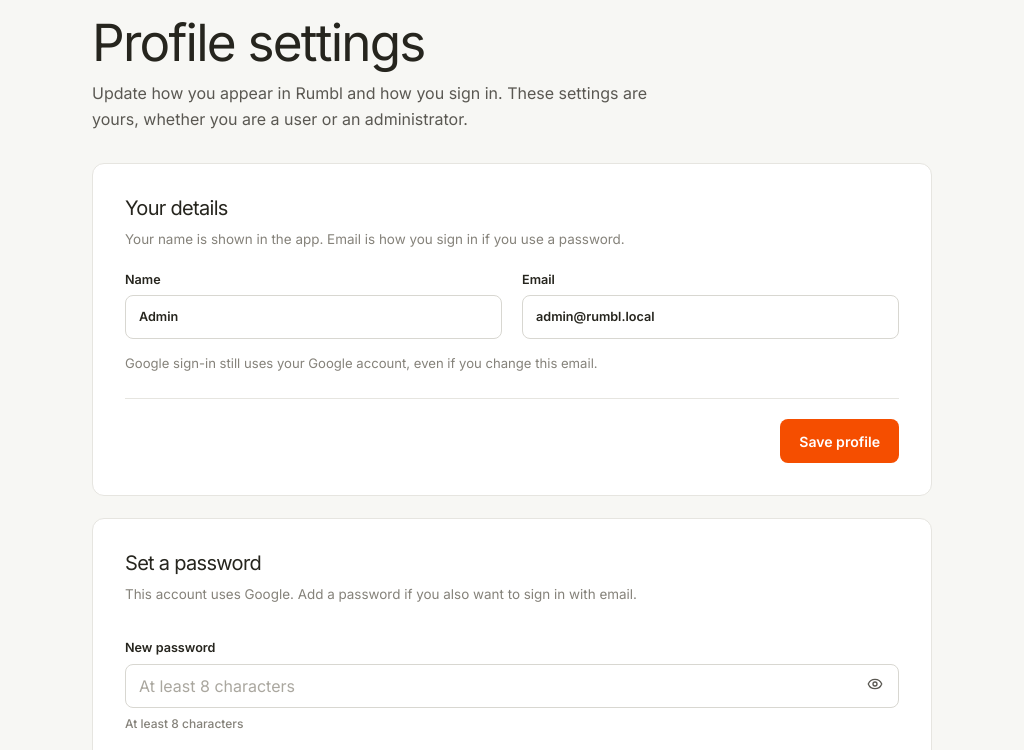
Test: critical user flows › lets an admin set a password on a Google-only account
Expected: the heading "Profile settings" is shown, [92,10,424,72]
Expected: the heading "Set a password" is shown, [125,551,261,575]
Type "newpass12" into the password field labelled "New password" at (512, 686), box [125,664,899,708]
(page scrolled)
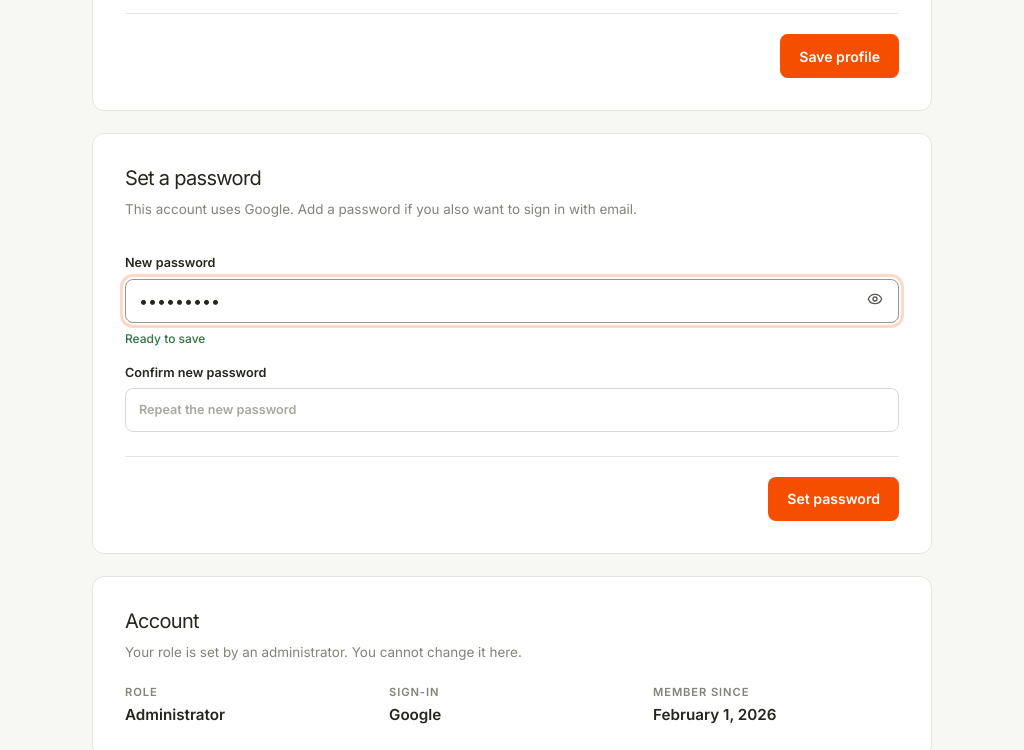
Type "newpass12" into the password field labelled "Confirm new password" at (512, 410), box [125,388,899,432]
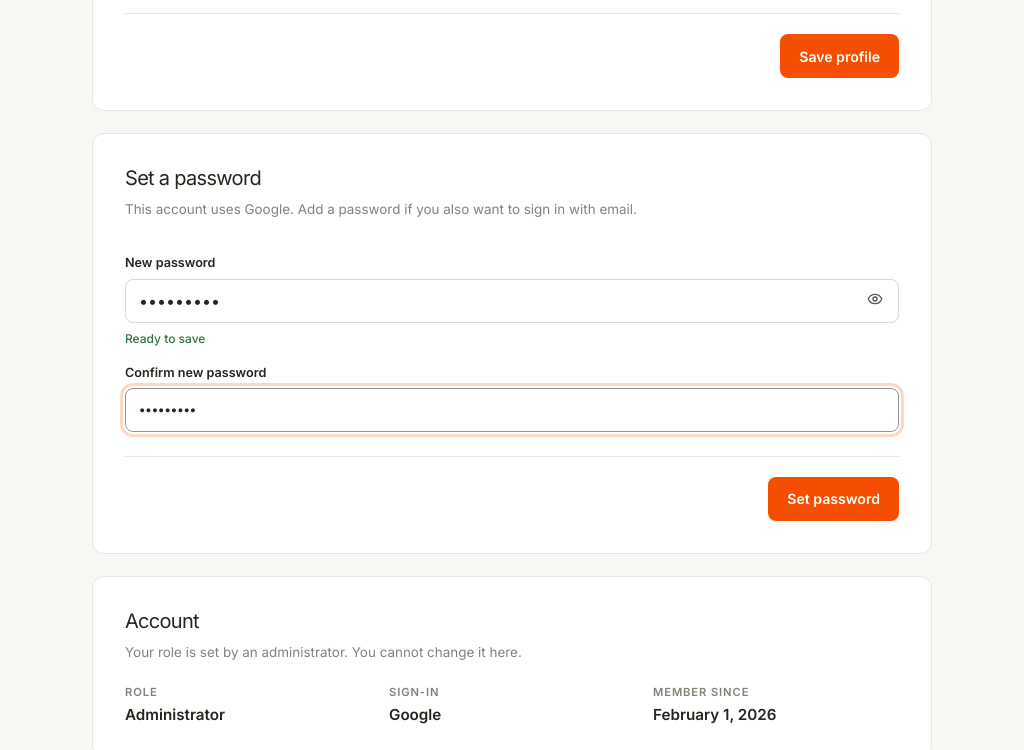
Click the button "Set password" at (834, 498), box [768,476,899,520]
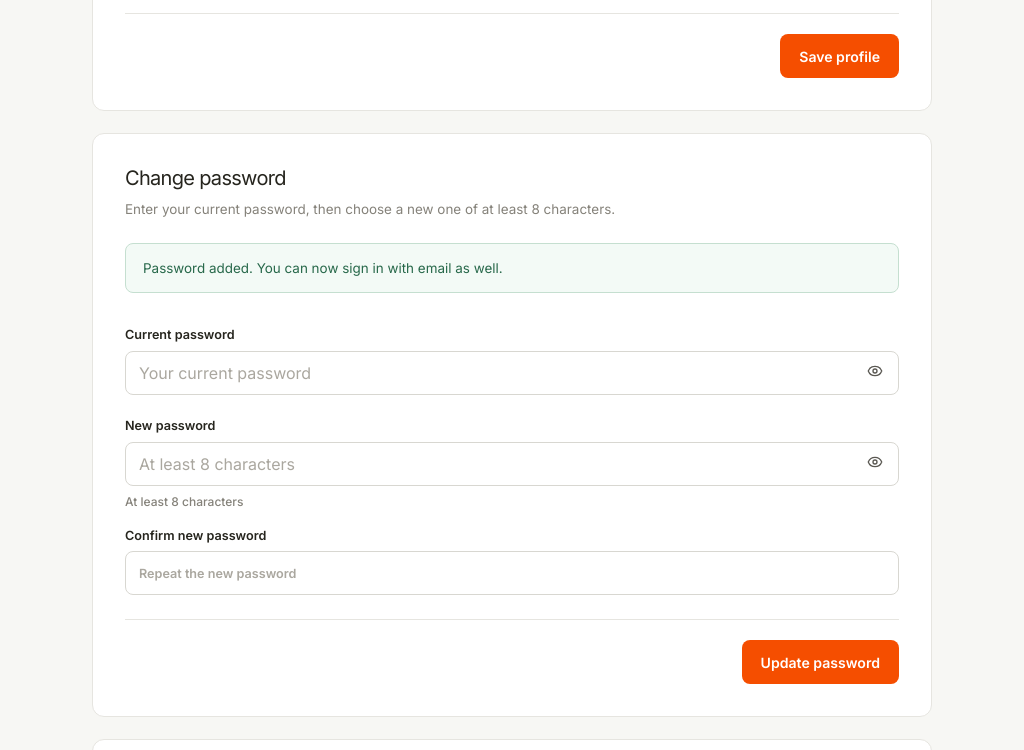
Expected: the text "Password added. You can now sign in with email as well." is shown, [125,242,899,293]
